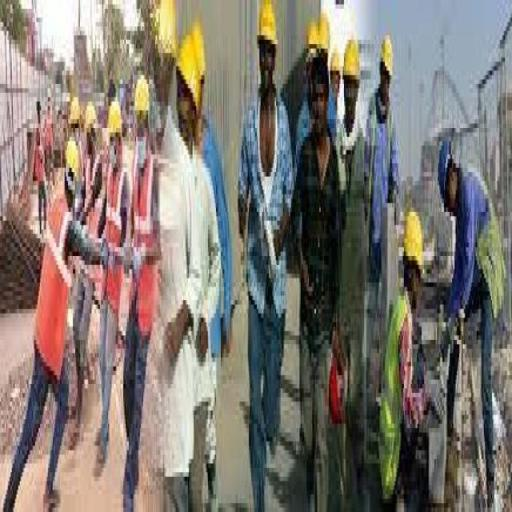helmet: (174, 13, 208, 120), (150, 0, 178, 66), (304, 4, 331, 71), (434, 132, 456, 212), (402, 203, 424, 274), (254, 0, 281, 53), (342, 22, 362, 84), (132, 70, 152, 128), (106, 92, 124, 146), (380, 26, 396, 84), (64, 133, 81, 181), (85, 97, 96, 141), (68, 93, 81, 128)
vest: (34, 194, 74, 388), (378, 287, 412, 499), (130, 146, 158, 335)
